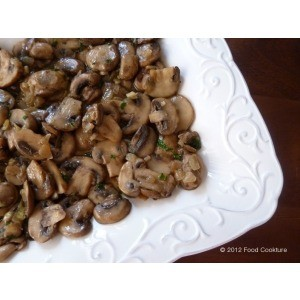mushroom_brain food: (8, 76, 164, 174)
